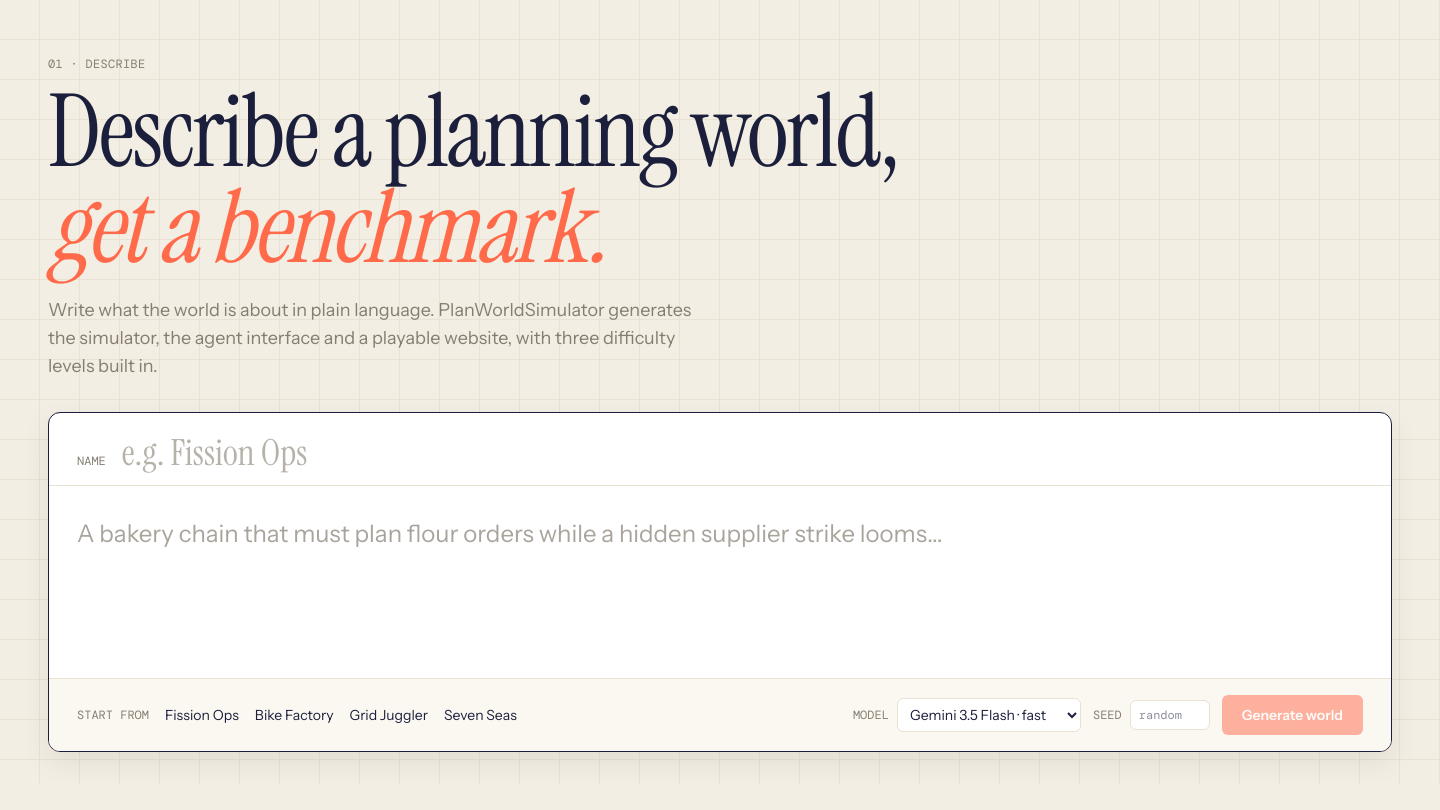
Test case: shows the server's error when creating fails
The width and height of the screenshot is (1440, 810).
Type "Bakery" into the field named "World name" at (742, 452), box [122,432,1363,472]
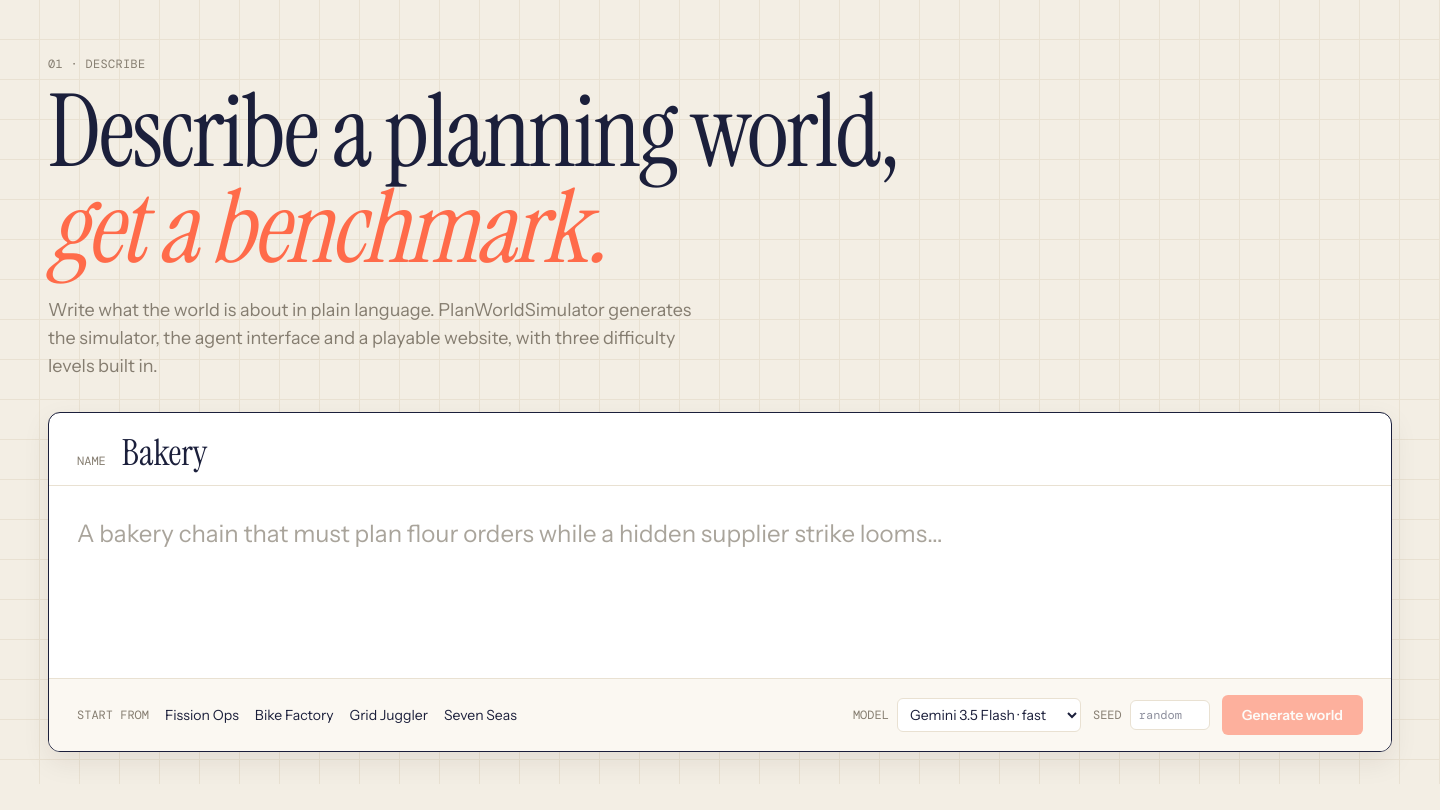
Type "A bakery" into the text box named "describe your benchmark" at (720, 582), box [49,486,1391,678]
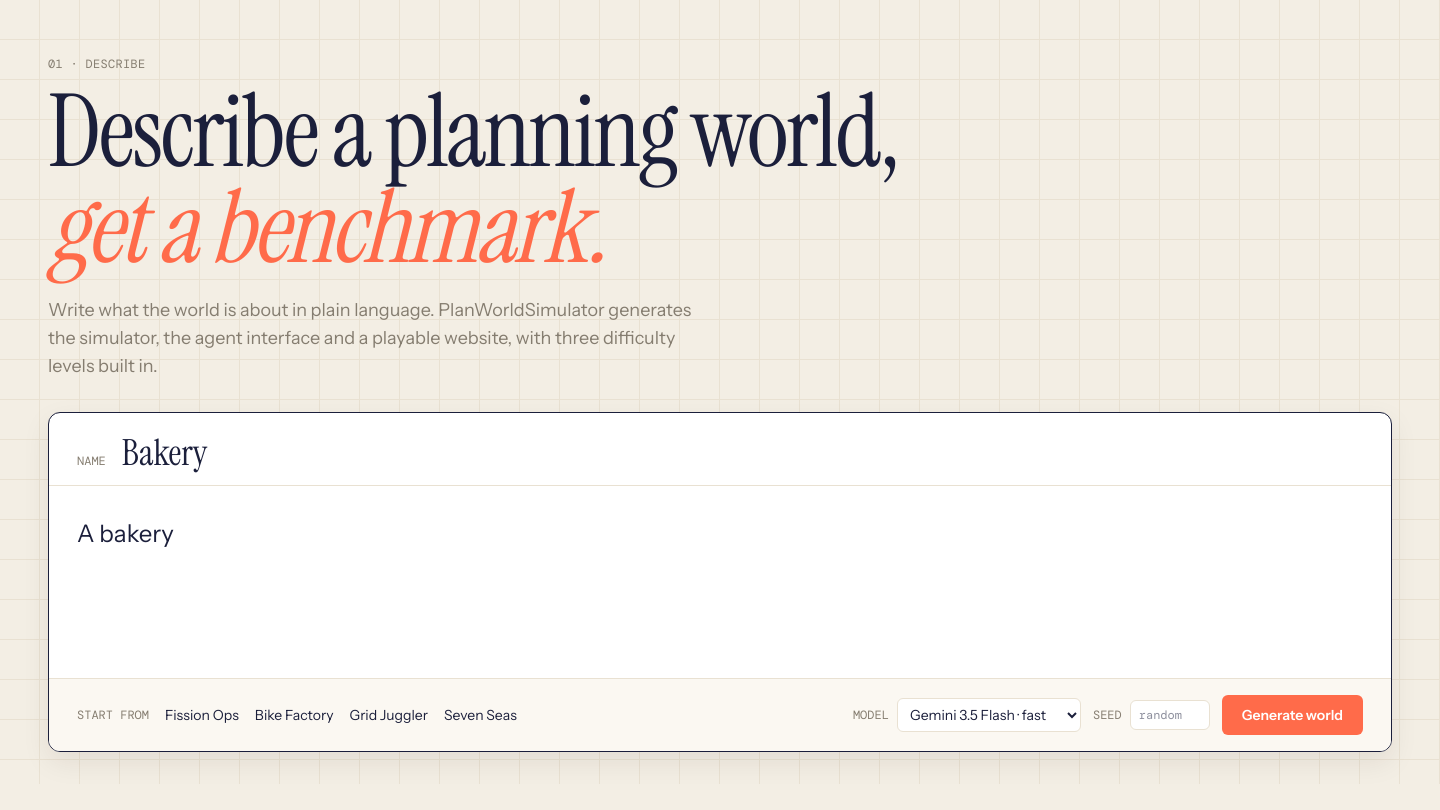
Click the button "Generate world" at (1292, 714), box [1222,694,1363,734]
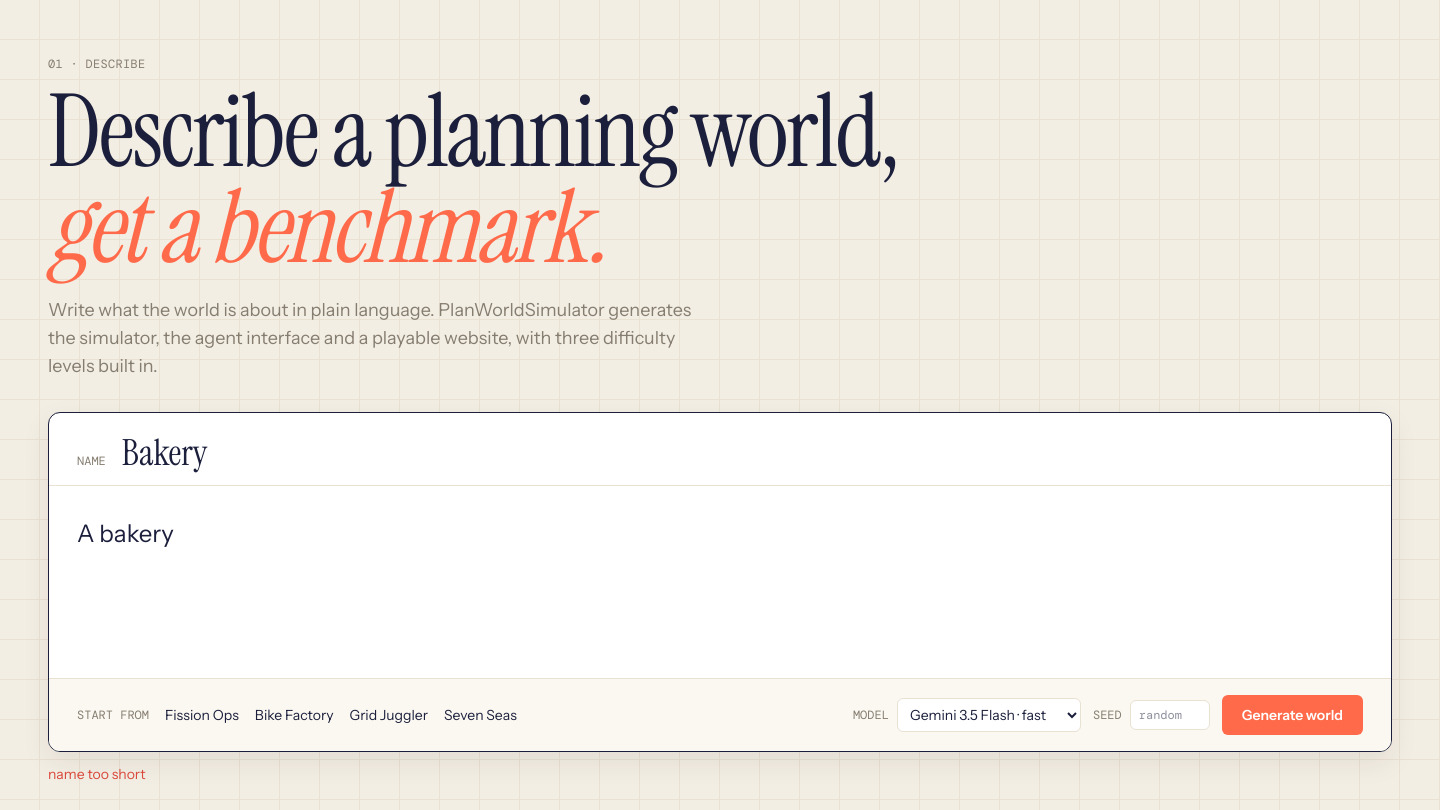
Result: the message reads "name too short" at [48,764,146,782]
